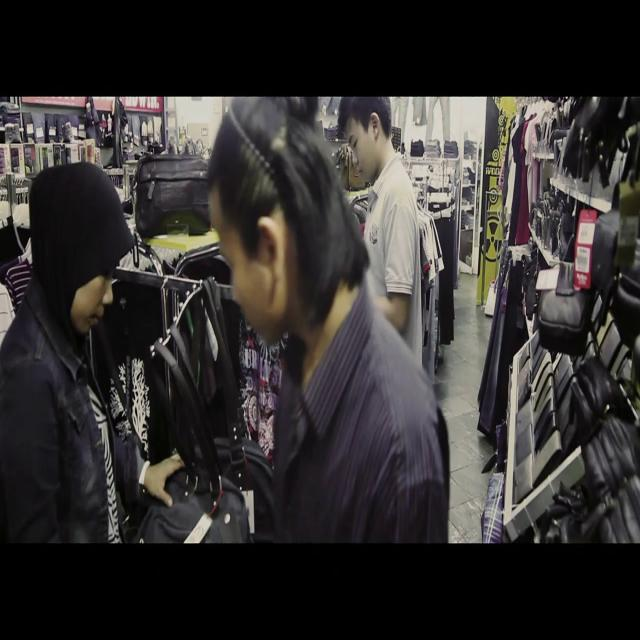normal: (189, 92, 366, 551), (0, 135, 165, 547), (329, 95, 409, 268)
